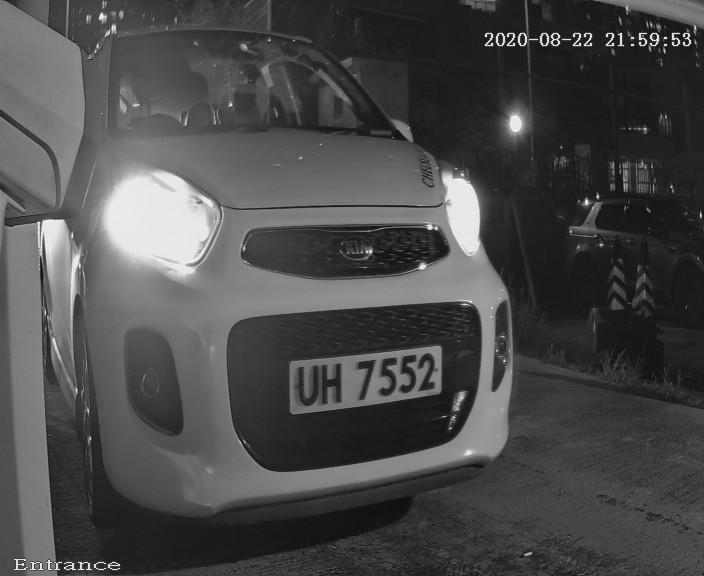Car: (1, 1, 560, 574)
License Plate: (283, 337, 447, 420)
